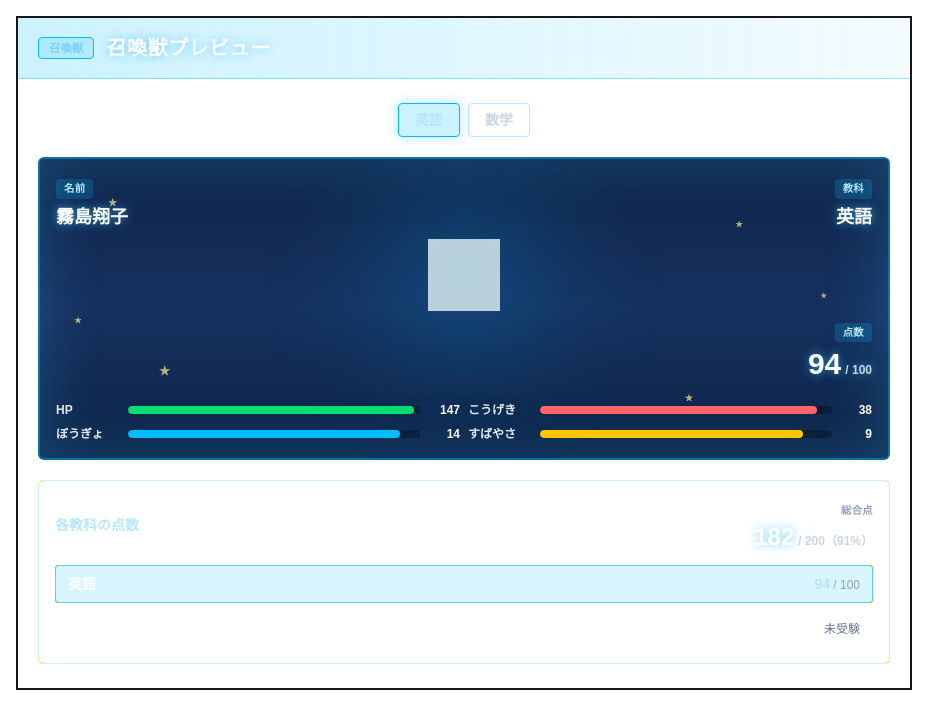
Test: SummonScreen › 科目タブをクリックすると中央の召喚獣が切り替わる
The image size is (929, 707).
Click the button "数学".
click(499, 120)  # box [468, 103, 530, 137]
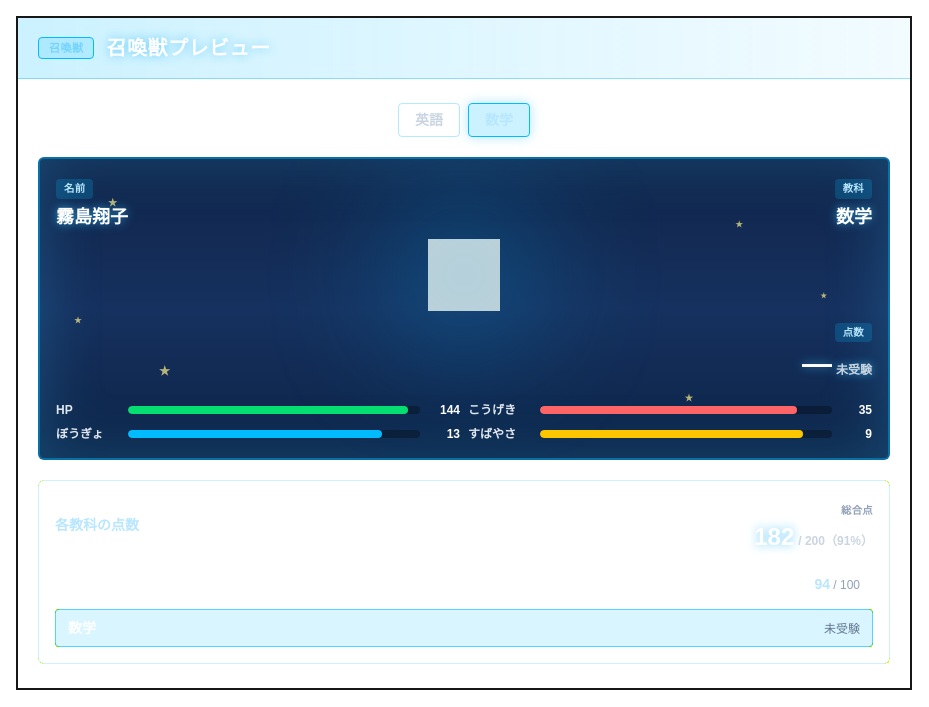
Expected: the text "—" is shown, [802, 347, 832, 380]
